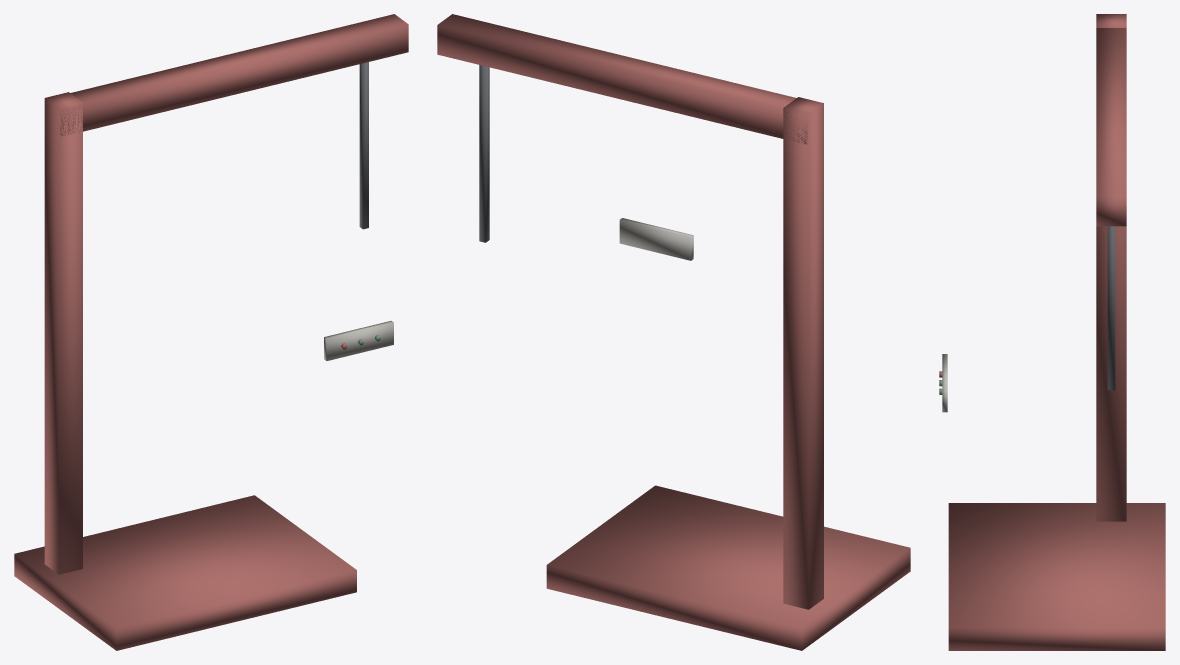
File: chain_hoist__compact.glb
3 views of the same model, side by side, from view 1: azimuth 30°, elevation 25°; view 2: azimuth 150°, elevation 25°; view 3: azimuth 270°, elevation 25° (orthographic). The views are drawn at different scales.
Parts seen in each view (by area): view 1: world; view 2: world; view 3: world.
Part boxes in pixels (x1=…): world: x1=14, y1=14, x2=408, y2=650; world: x1=437, y1=14, x2=910, y2=650; world: x1=939, y1=14, x2=1165, y2=650.
Bounding box in the file's own units: 1.26 × 1.63 × 0.6459.
